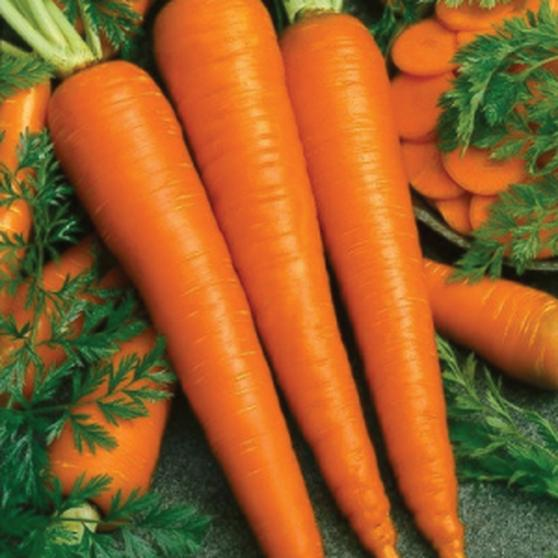carrot: (39, 57, 328, 558), (150, 2, 398, 558), (281, 5, 493, 558)
